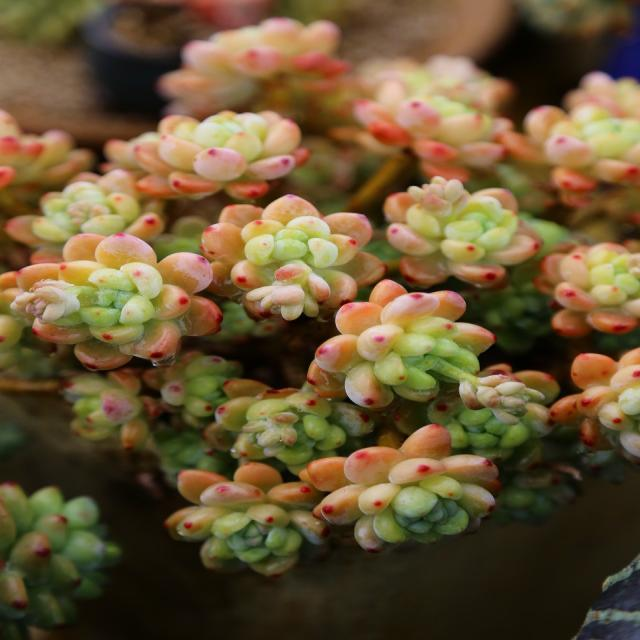LumiRose: (9, 232, 221, 370), (308, 280, 501, 409), (308, 424, 501, 552), (201, 194, 386, 320), (165, 462, 330, 576), (105, 110, 309, 200), (0, 482, 122, 628), (384, 176, 542, 288), (392, 365, 559, 469), (354, 79, 506, 181), (159, 18, 349, 99), (6, 169, 165, 262), (216, 379, 373, 473), (525, 71, 639, 184), (534, 242, 639, 337), (551, 348, 640, 458), (144, 350, 268, 428), (360, 55, 514, 113), (64, 371, 161, 449), (0, 110, 94, 187), (493, 468, 578, 524)
